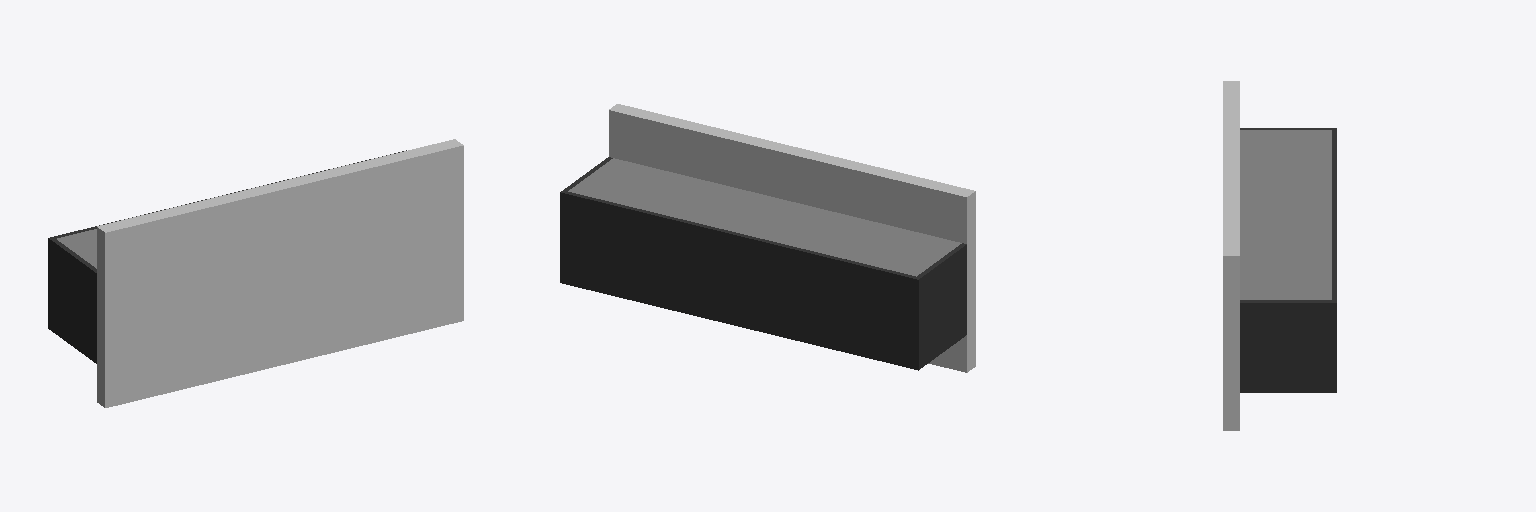
The picture shows the model from 3 angles: view 1: azimuth 30°, elevation 25°; view 2: azimuth 150°, elevation 25°; view 3: azimuth 270°, elevation 25°; orthographic projection.
Parts seen in each view (by area): view 1: cube.084, cube.091, cube.086; view 2: cube.085, cube.084, cube.086, cube.091, cube.087; view 3: cube.086, cube.087, cube.084, cube.085.
Part boxes in pixels (x1,y1,x2,y2): cube.084: (97,139,463,407); cube.091: (48,237,96,363); cube.086: (57,229,96,268); cube.085: (565,192,915,368); cube.084: (609,104,975,372); cube.086: (568,158,961,276); cube.091: (914,243,966,370); cube.087: (560,157,612,283); cube.086: (1240,130,1331,299); cube.087: (1240,300,1336,392); cube.084: (1223,81,1239,430); cube.085: (1332,130,1336,299).
Size of the model in its own units: 0.8054 by 0.377 by 0.2228.
Materials: 3 (2 with a texture image).